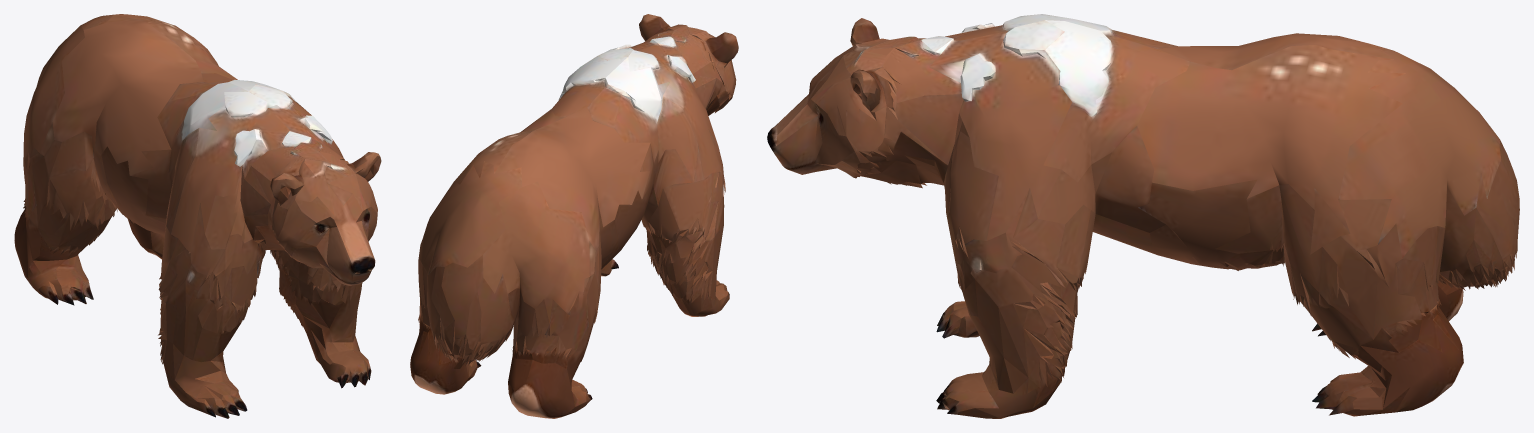
File: bear.glb
The picture shows the model from 3 angles, left to right: view 1: azimuth 30°, elevation 25°; view 2: azimuth 150°, elevation 25°; view 3: azimuth 270°, elevation 25°; orthographic projection. The views are drawn at different scales.
Bounding box in the file's own units: 0.677 × 0.9638 × 1.9.
1 material, 1 textured.
